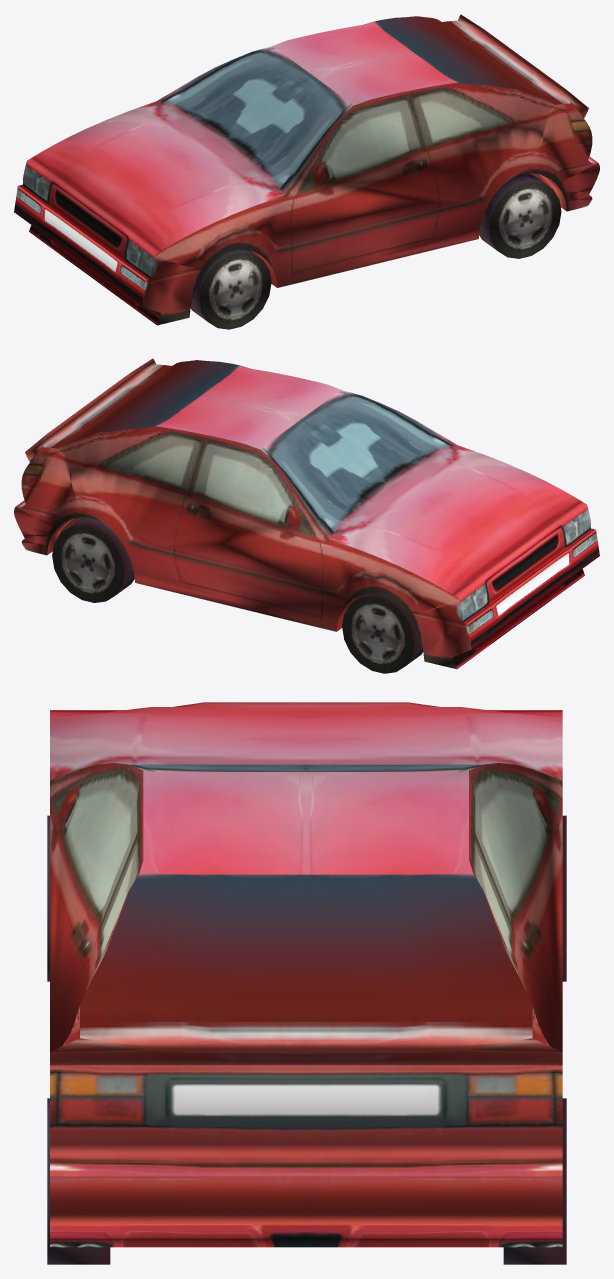
The model's file is car_model.fbx.
3 views of the same model, one above another, from view 1: azimuth 30°, elevation 25°; view 2: azimuth 150°, elevation 25°; view 3: azimuth 270°, elevation 25° (orthographic). The views are drawn at different scales.
Visible parts, largest first — view 1: car; view 2: car; view 3: car.
Part boxes in pixels (bbox=[...]): car: bbox=[14, 14, 599, 329]; car: bbox=[14, 358, 599, 673]; car: bbox=[47, 702, 566, 1264].
Bounding box in the file's own units: 36143 × 12996 × 17752.
1 material, 1 textured.
